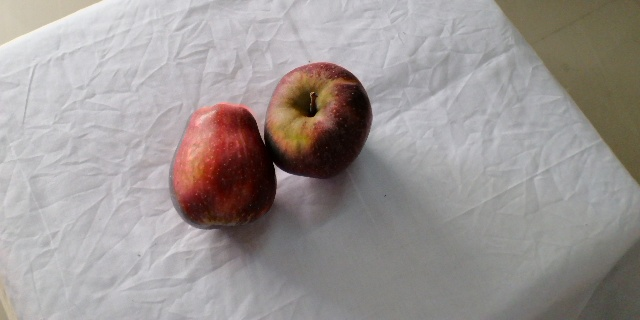apple_kashmir: (168, 100, 284, 231), (262, 60, 374, 181)
